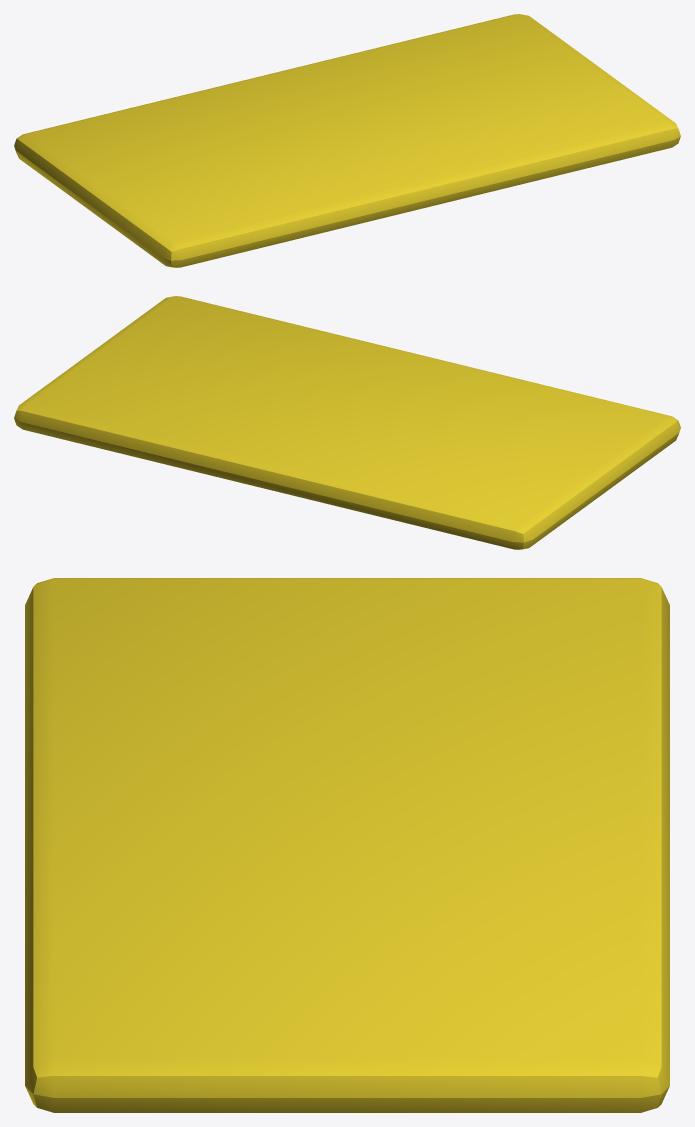
File: BovenPlatfor.fbx
3 views of the same model, one above another, from view 1: azimuth 30°, elevation 25°; view 2: azimuth 150°, elevation 25°; view 3: azimuth 270°, elevation 25° (orthographic). The views are drawn at different scales.
Parts seen in each view (by area): view 1: Cube.003; view 2: Cube.003; view 3: Cube.003.
Part boxes in pixels (left/top/right/bottom): Cube.003: left=14, top=14, right=680, bottom=267; Cube.003: left=14, top=296, right=680, bottom=549; Cube.003: left=25, top=578, right=669, bottom=1112.
Bounding box in the file's own units: 188 × 9.1 × 102.
